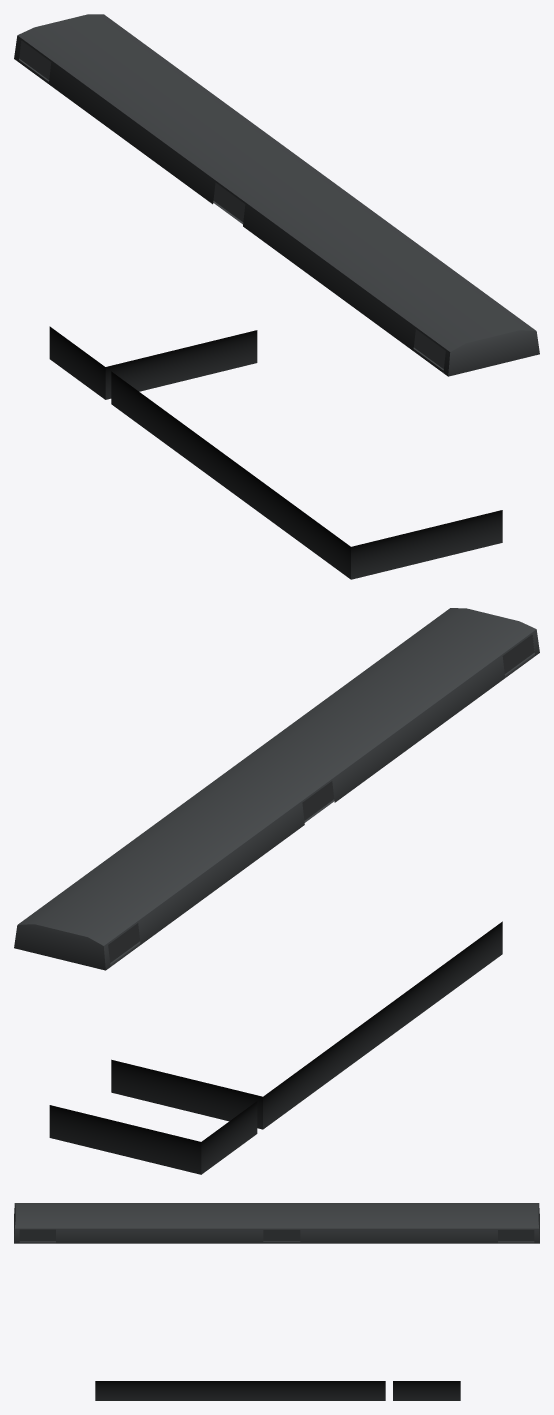
File: UV_PANTA03.glb
The picture shows the model from 3 angles, top to bottom: view 1: azimuth 30°, elevation 25°; view 2: azimuth 150°, elevation 25°; view 3: azimuth 270°, elevation 25°; orthographic projection. The views are drawn at different scales.
Parts seen in each view (by area): view 1: obj23; view 2: obj23; view 3: obj23.
Boxes of the visible parts, bbox=[...] form: obj23: bbox=[14, 14, 539, 579]; obj23: bbox=[14, 608, 539, 1174]; obj23: bbox=[14, 1203, 539, 1400].
Size of the model in its own units: 4.96 by 8.52 by 24.57.
1 material, 1 textured.
